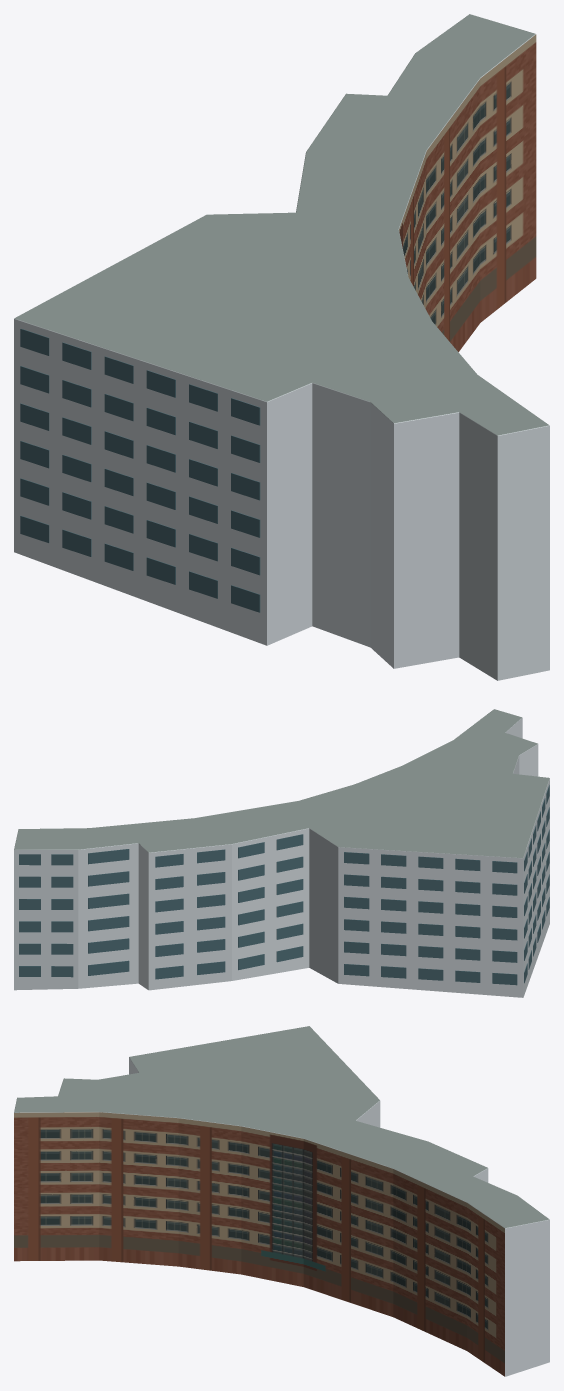
Rendered from intact.glb.
3 views of the same model, one above another, from view 1: azimuth 30°, elevation 25°; view 2: azimuth 150°, elevation 25°; view 3: azimuth 270°, elevation 25° (orthographic). The views are drawn at different scales.
Visible parts, largest first — view 1: SM_baekho_Intact_00, SM_baekho_Intact_01; view 2: SM_baekho_Intact_00, SM_baekho_Intact_01; view 3: SM_baekho_Intact_00.
Part boxes in pixels (<box>): SM_baekho_Intact_00: <box>14,14,549,680</box>; SM_baekho_Intact_01: <box>20,328,260,612</box>; SM_baekho_Intact_00: <box>14,709,549,997</box>; SM_baekho_Intact_01: <box>19,785,549,985</box>; SM_baekho_Intact_00: <box>14,1026,549,1376</box>.
Size of the model in its own units: 1.97 by 0.6749 by 2.2.
Materials: 4 (1 with a texture image).
